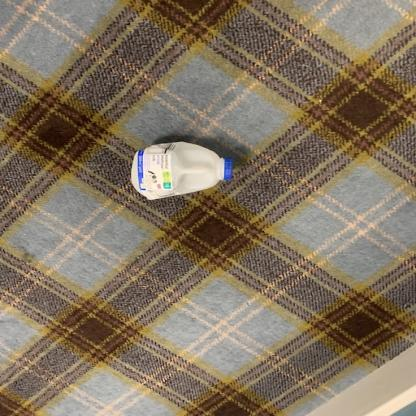trash: (126, 141, 236, 203)
